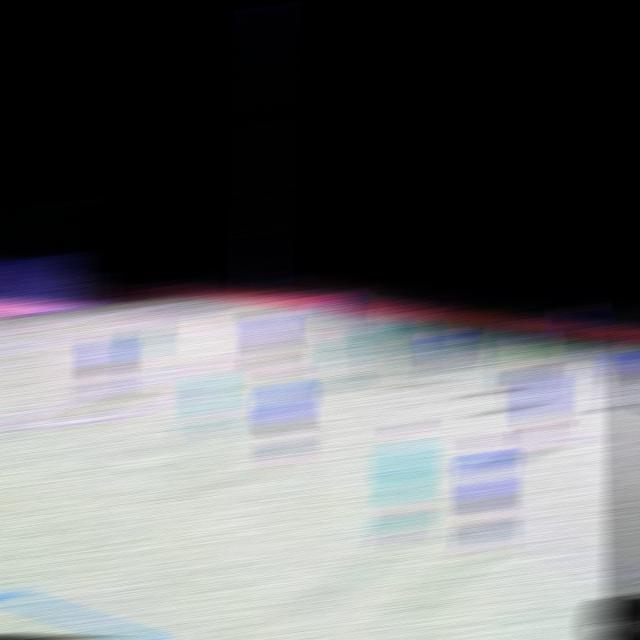bigarea_top_inner: (283, 325, 311, 351)
bottom_arc_area_intersection: (0, 410, 20, 437)
smallarea_top_inner: (46, 334, 75, 352)
smallarea_top_outter: (0, 321, 14, 337)
top_arc_area_intersection: (179, 359, 209, 378)
